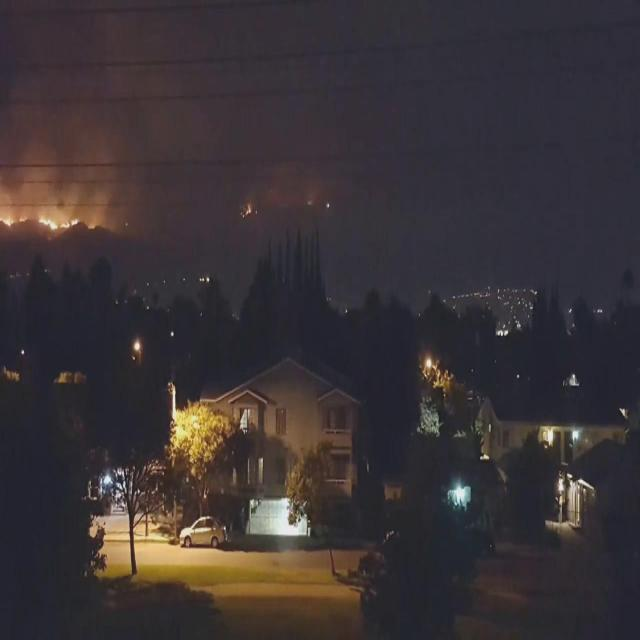Fire: (2, 18, 186, 239), (246, 156, 330, 207), (37, 216, 79, 230), (3, 212, 27, 230), (240, 202, 252, 218)
